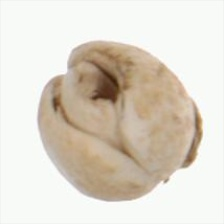L3: (46, 44, 127, 135)
L4: (38, 39, 205, 203)
